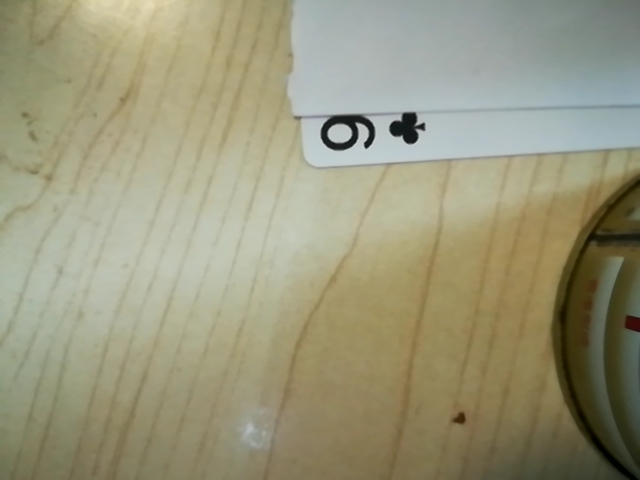mh 9: (309, 102, 436, 162)
